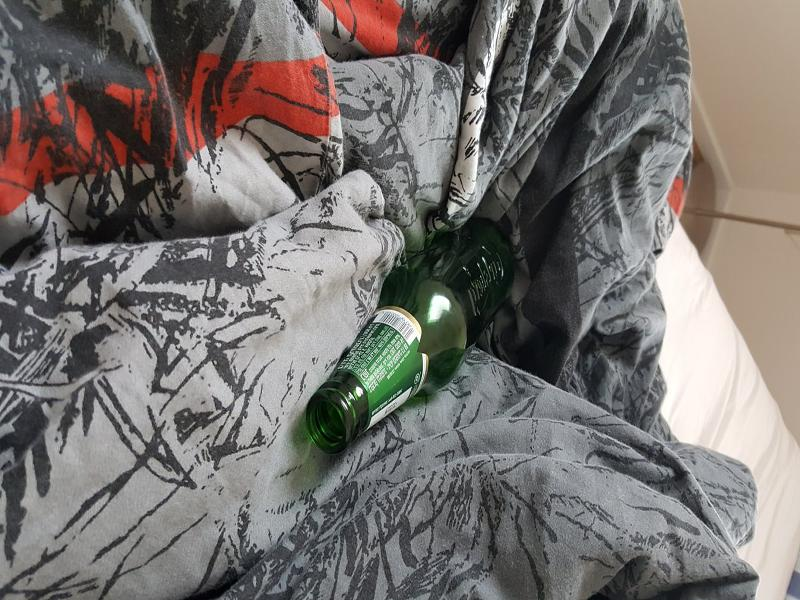Beer: (305, 216, 514, 450)
